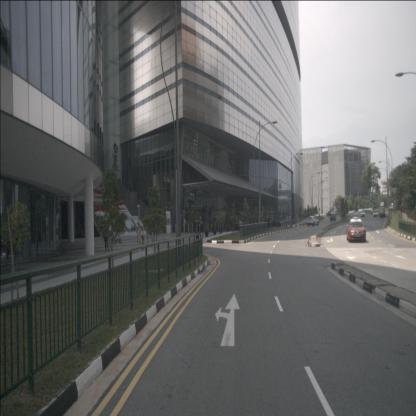human-pedestrian-adult: (103, 221, 108, 251)
vehicle-car: (346, 218, 366, 242), (268, 218, 282, 227), (307, 216, 319, 226), (233, 219, 243, 230), (379, 206, 386, 218), (351, 214, 359, 223), (389, 203, 397, 211), (373, 209, 379, 217), (330, 214, 336, 221), (360, 210, 366, 217)
